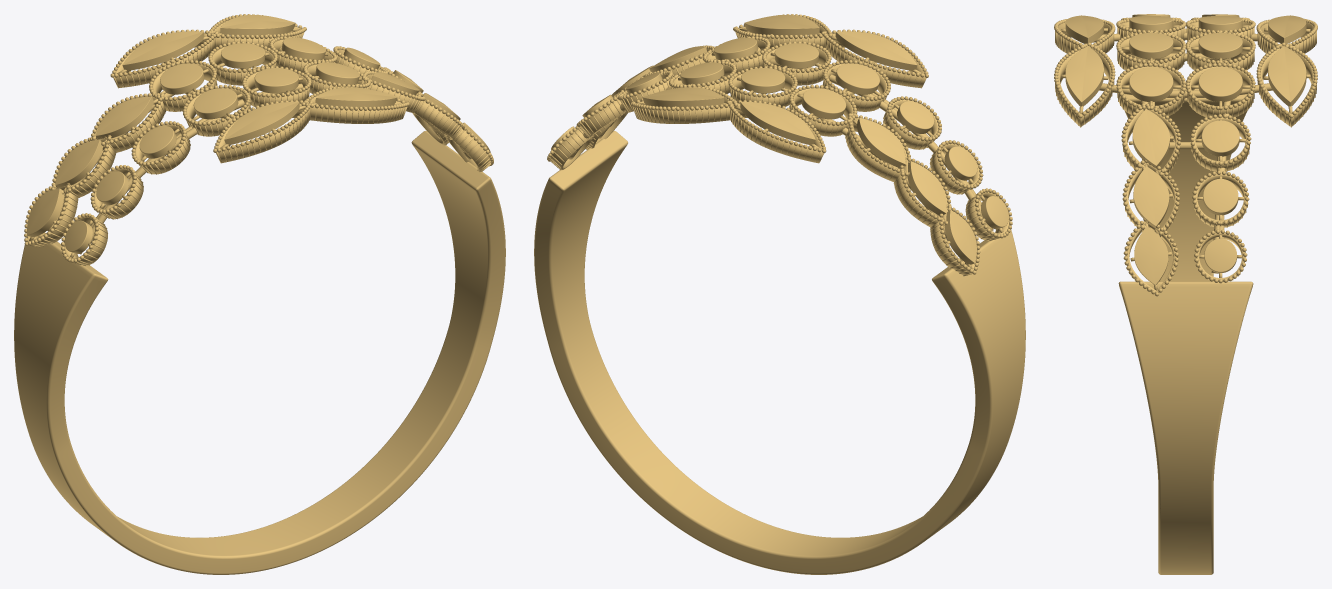
The picture shows the model from 3 angles, left to right: view 1: azimuth 30°, elevation 25°; view 2: azimuth 150°, elevation 25°; view 3: azimuth 270°, elevation 25°; orthographic projection. The views are drawn at different scales.
Visible parts, largest first — view 1: Complete curved comfort shank | reverse inferred, Fine milgrain | individually modeled rounded beads, Central scalloped leaf border 1 -1 | raised polished face, Central scalloped leaf border -1 -1 | raised polished face, Shoulder leaf -1 0 | raised polished face, Central scalloped leaf border -1 1 | raised polished face, Shoulder leaf -1 1 | raised polished face, Central scalloped leaf border -1 -1 | closed openwork galler, Central scalloped leaf border 1 1 | raised polished face, Central scalloped leaf border -1 1 | closed openwork gallery, Shoulder leaf -1 2 | raised polished face, Six-roundel center 0 1 | raised polished face (+19 smaller); view 2: Complete curved comfort shank | reverse inferred, Fine milgrain | individually modeled rounded beads, Central scalloped leaf border -1 -1 | raised polished face, Central scalloped leaf border 1 -1 | raised polished face, Shoulder leaf -1 0 | raised polished face, Central scalloped leaf border 1 1 | raised polished face, Shoulder leaf -1 1 | raised polished face, Central scalloped leaf border 1 -1 | closed openwork gallery, Central scalloped leaf border 1 1 | closed openwork gallery, Central scalloped leaf border -1 1 | raised polished face, Shoulder leaf -1 2 | raised polished face, Six-roundel center 0 -1 | raised polished face (+19 smaller); view 3: Complete curved comfort shank | reverse inferred, Fine milgrain | individually modeled rounded beads, Central scalloped leaf border 1 1 | raised polished face, Central scalloped leaf border -1 1 | raised polished face, Shoulder leaf 1 0 | raised polished face, Shoulder leaf 1 1 | raised polished face, Shoulder leaf 1 2 | raised polished face, Six-roundel center 2 1 | raised polished face, Six-roundel center 2 -1 | raised polished face, Shoulder roundel 1 0 | raised polished face, Shoulder roundel 1 1 | raised polished face, Six-roundel center 1 -1 | raised polished face (+22 smaller).
Boxes of the visible parts, <box> form: Complete curved comfort shank | reverse inferred: <box>14,131,505,574</box>; Fine milgrain | individually modeled rounded beads: <box>24,14,493,262</box>; Central scalloped leaf border 1 -1 | raised polished face: <box>122,31,204,70</box>; Central scalloped leaf border -1 -1 | raised polished face: <box>224,101,299,145</box>; Shoulder leaf -1 0 | raised polished face: <box>95,96,153,139</box>; Central scalloped leaf border -1 1 | raised polished face: <box>315,87,397,108</box>; Shoulder leaf -1 1 | raised polished face: <box>55,139,103,187</box>; Central scalloped leaf border -1 -1 | closed openwork galler: <box>216,103,308,162</box>; Central scalloped leaf border 1 1 | raised polished face: <box>220,15,295,36</box>; Central scalloped leaf border -1 1 | closed openwork gallery: <box>303,92,405,123</box>; Shoulder leaf -1 2 | raised polished face: <box>27,188,64,236</box>; Six-roundel center 0 1 | raised polished face: <box>160,63,204,94</box>; Complete curved comfort shank | reverse inferred: <box>534,130,1025,574</box>; Fine milgrain | individually modeled rounded beads: <box>547,14,1012,274</box>; Central scalloped leaf border -1 -1 | raised polished face: <box>835,31,917,70</box>; Central scalloped leaf border 1 -1 | raised polished face: <box>740,101,815,145</box>; Shoulder leaf -1 0 | raised polished face: <box>856,117,905,168</box>; Central scalloped leaf border 1 1 | raised polished face: <box>642,87,724,107</box>; Shoulder leaf -1 1 | raised polished face: <box>907,161,946,215</box>; Central scalloped leaf border 1 -1 | closed openwork gallery: <box>730,103,823,163</box>; Central scalloped leaf border 1 1 | closed openwork gallery: <box>633,93,736,123</box>; Central scalloped leaf border -1 1 | raised polished face: <box>744,15,819,36</box>; Shoulder leaf -1 2 | raised polished face: <box>944,210,976,264</box>; Six-roundel center 0 -1 | raised polished face: <box>835,63,879,94</box>; Complete curved comfort shank | reverse inferred: <box>1118,88,1253,574</box>; Fine milgrain | individually modeled rounded beads: <box>1054,17,1317,296</box>; Central scalloped leaf border 1 1 | raised polished face: <box>1268,46,1306,106</box>; Central scalloped leaf border -1 1 | raised polished face: <box>1065,46,1103,106</box>; Shoulder leaf 1 0 | raised polished face: <box>1132,109,1169,168</box>; Shoulder leaf 1 1 | raised polished face: <box>1133,166,1169,227</box>; Shoulder leaf 1 2 | raised polished face: <box>1134,226,1168,285</box>; Six-roundel center 2 1 | raised polished face: <box>1198,67,1242,101</box>; Six-roundel center 2 -1 | raised polished face: <box>1129,67,1173,101</box>; Shoulder roundel 1 0 | raised polished face: <box>1201,120,1239,156</box>; Shoulder roundel 1 1 | raised polished face: <box>1203,178,1238,215</box>; Six-roundel center 1 -1 | raised polished face: <box>1129,32,1173,59</box>.
Bounding box in the file's own units: 0.0195 × 0.0203 × 0.00952.
